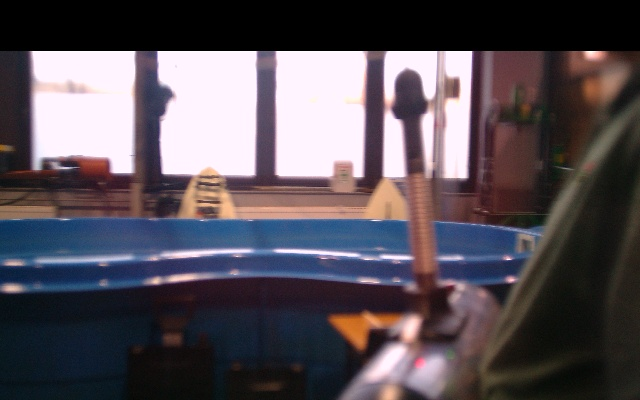black: (403, 162, 439, 286)
